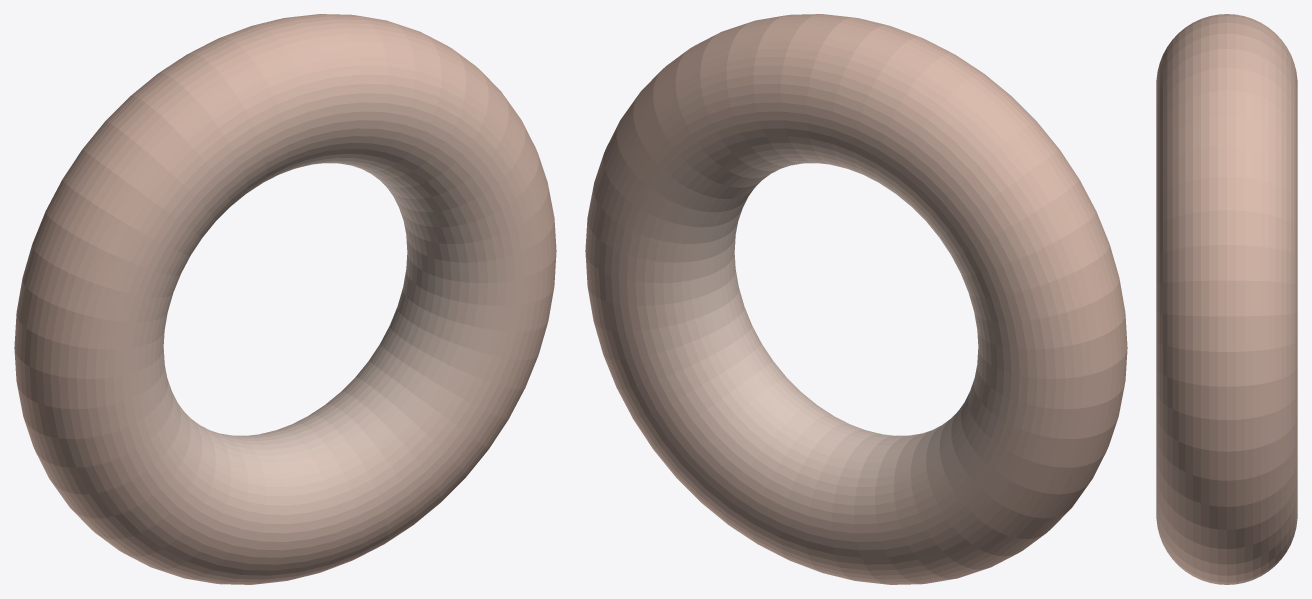
3 views of the same model, side by side, from view 1: azimuth 30°, elevation 25°; view 2: azimuth 150°, elevation 25°; view 3: azimuth 270°, elevation 25° (orthographic). The views are drawn at different scales.
Parts seen in each view (by area): view 1: world; view 2: world; view 3: world.
Part boxes in pixels (x1,y1,x2,y2): world: (14, 14, 556, 584); world: (585, 14, 1127, 584); world: (1156, 14, 1297, 584).
Bounding box in the file's own units: 27.47 × 27.41 × 6.79.
